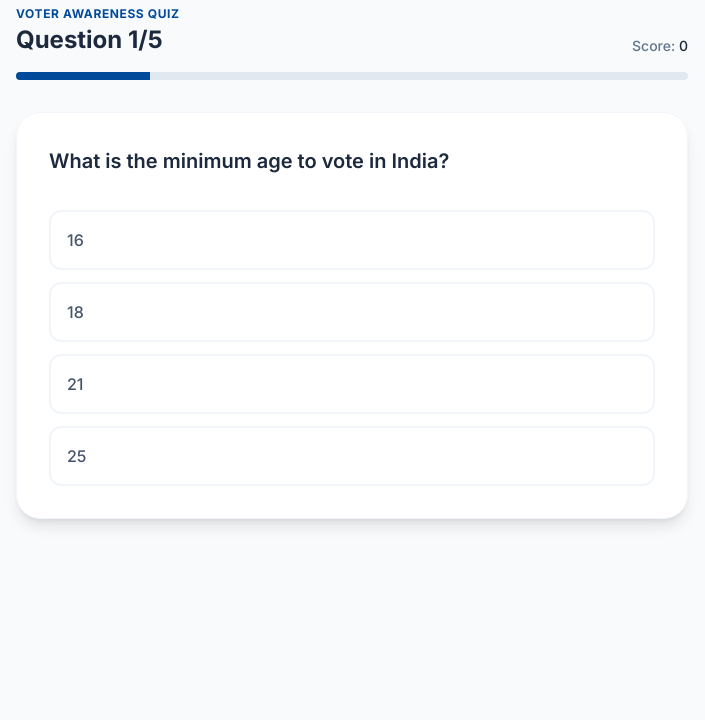
Scenario: Quiz Component › should highlight correct answer and show explanation when correct answer is selected
Click the button "18": (75, 312) [49,282,655,342]
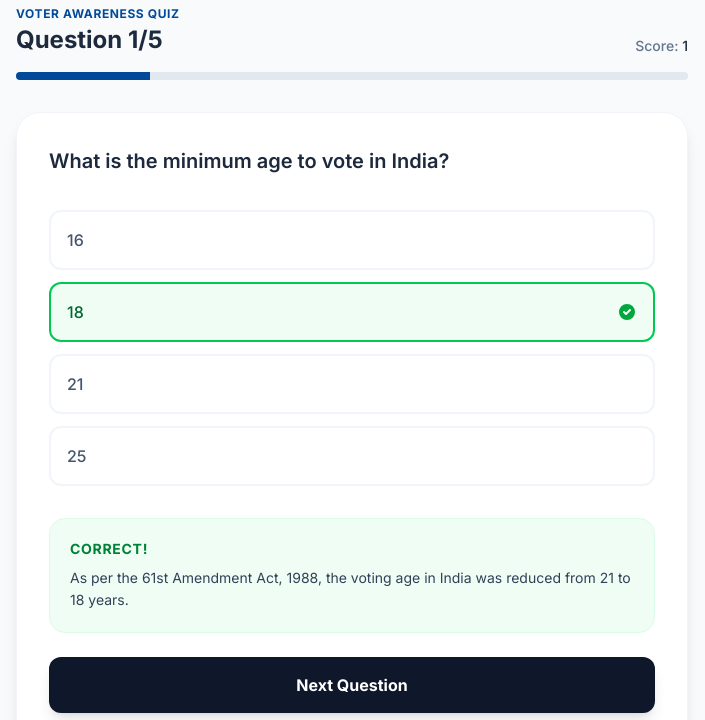
Now the heading "Correct!" is shown, box [70,540,148,556]
Now the text "As per the 61st Amendment Act, 1988, the voting age in India was reduced from 21 to 18 years." is shown, box [70,568,631,608]
